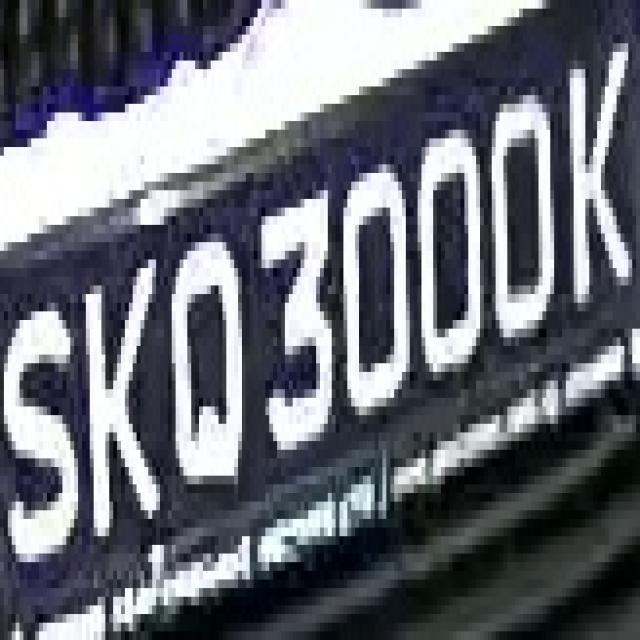0: (336, 130, 418, 450), (418, 104, 492, 415), (472, 69, 554, 346)
3: (246, 164, 339, 502)
K: (78, 233, 160, 580), (562, 9, 640, 320)
Q: (164, 199, 242, 536)
S: (8, 285, 78, 597)
